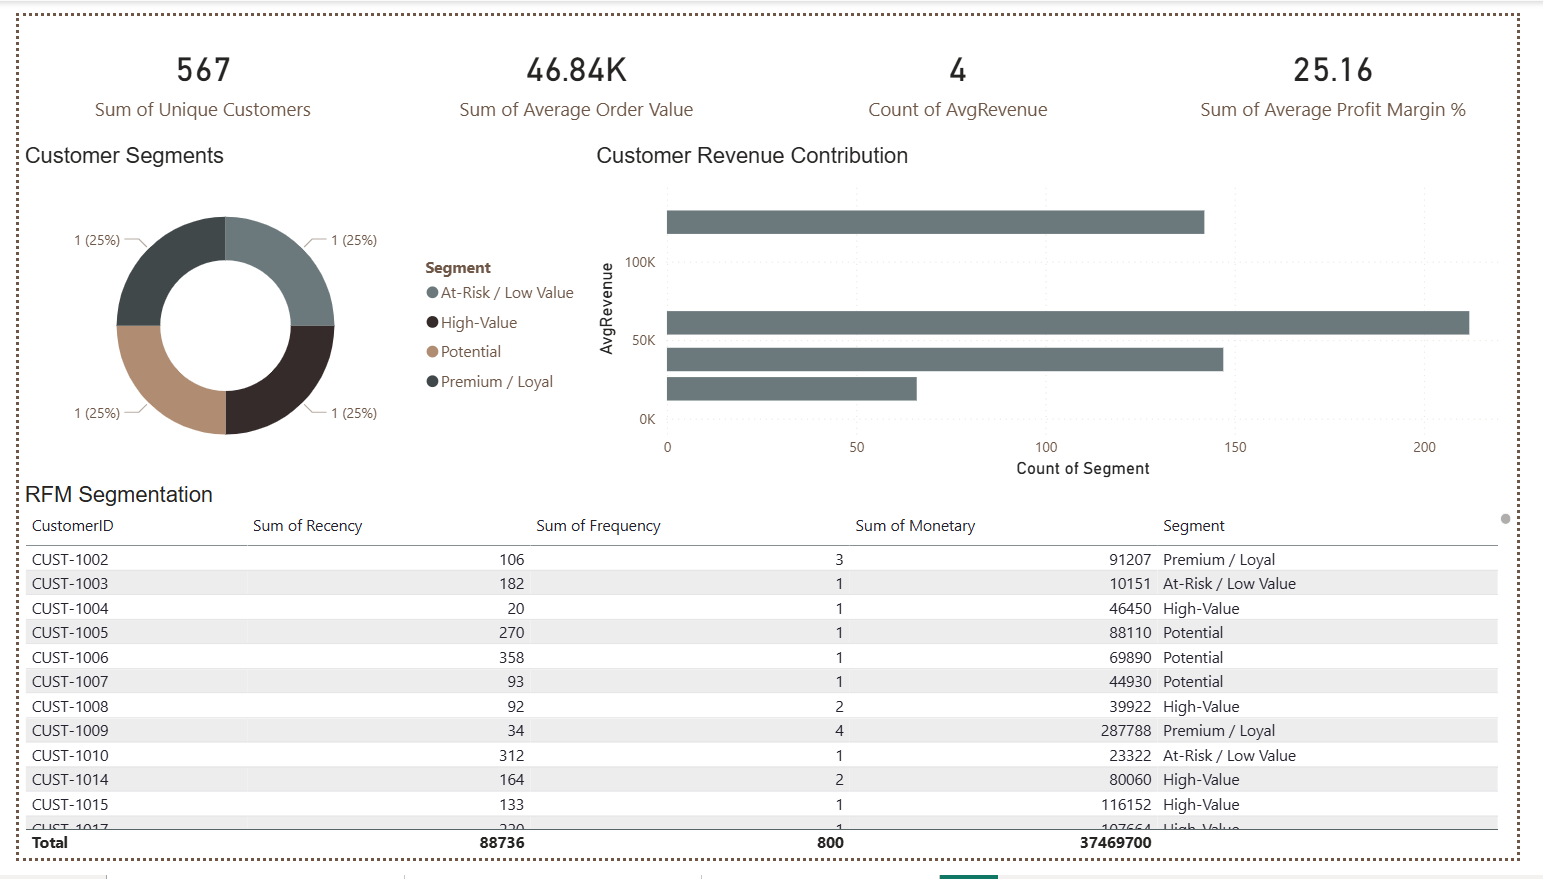

What the dashboard file says about the page in this screenshot:
{"tool":"powerbi","page":{"name":"Customer & Business Growth","canvas":[1280,720],"ordinal":1},"visuals":[{"type":"card","fields":{"Values":["Sum(output_kpi_summary.Unique Customers)"]},"box":[0,0,313.3,108.3],"z":0},{"type":"card","fields":{"Values":["Sum(output_kpi_summary.Average Order Value)"]},"box":[313.3,0,326.7,108.3],"z":1000},{"type":"card","fields":{"Values":["CountNonNull(output_segment_summary.AvgRevenue)"]},"box":[640,0,325,108.3],"z":2000},{"type":"card","fields":{"Values":["Sum(output_kpi_summary.Average Profit Margin %)"]},"box":[965,0,315,108.3],"z":3000},{"type":"donutChart","title":"Customer Segments","fields":{"Category":["output_segment_summary.Segment"],"Y":["CountNonNull(output_segment_summary.Customers)"]},"box":[0,108.3,488.3,290],"z":4000},{"type":"tableEx","title":"RFM Segmentation","fields":{"Values":["output_rfm_segmentation.CustomerID","Sum(output_rfm_segmentation.Recency)","Sum(output_rfm_segmentation.Frequency)","Sum(output_rfm_segmentation.Monetary)","output_rfm_segmentation.Segment"]},"box":[0,398.3,1280,321.7],"z":5000},{"type":"barChart","title":"Customer Revenue Contribution","fields":{"Y":["CountNonNull(output_rfm_segmentation.Segment)"],"Category":["output_segment_summary.AvgRevenue"]},"box":[488.3,108.3,791.7,290],"z":6000}]}

Visuals, with their boxes in screenshot pixels (x1, y1, x2, y2), scaled from the page's 1280x720 canvas onto the 1543x879 screenshot:
card - Sum(output_kpi_summary.Unique Customers): detection(0, 0, 378, 132)
card - Sum(output_kpi_summary.Average Order Value): detection(378, 0, 772, 132)
card - CountNonNull(output_segment_summary.AvgRevenue): detection(772, 0, 1163, 132)
card - Sum(output_kpi_summary.Average Profit Margin %): detection(1163, 0, 1542, 132)
"Customer Segments" donutChart: detection(0, 132, 589, 486)
"RFM Segmentation" tableEx: detection(0, 486, 1542, 878)
"Customer Revenue Contribution" barChart: detection(589, 132, 1542, 486)
